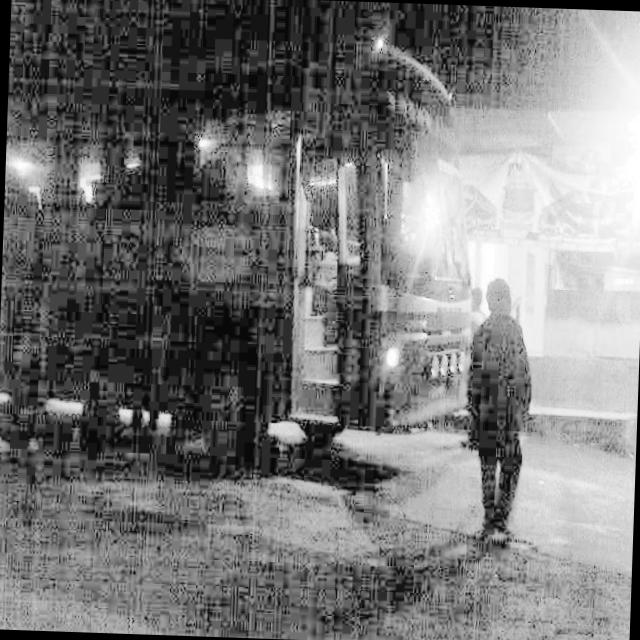Bus: (0, 30, 493, 487)
